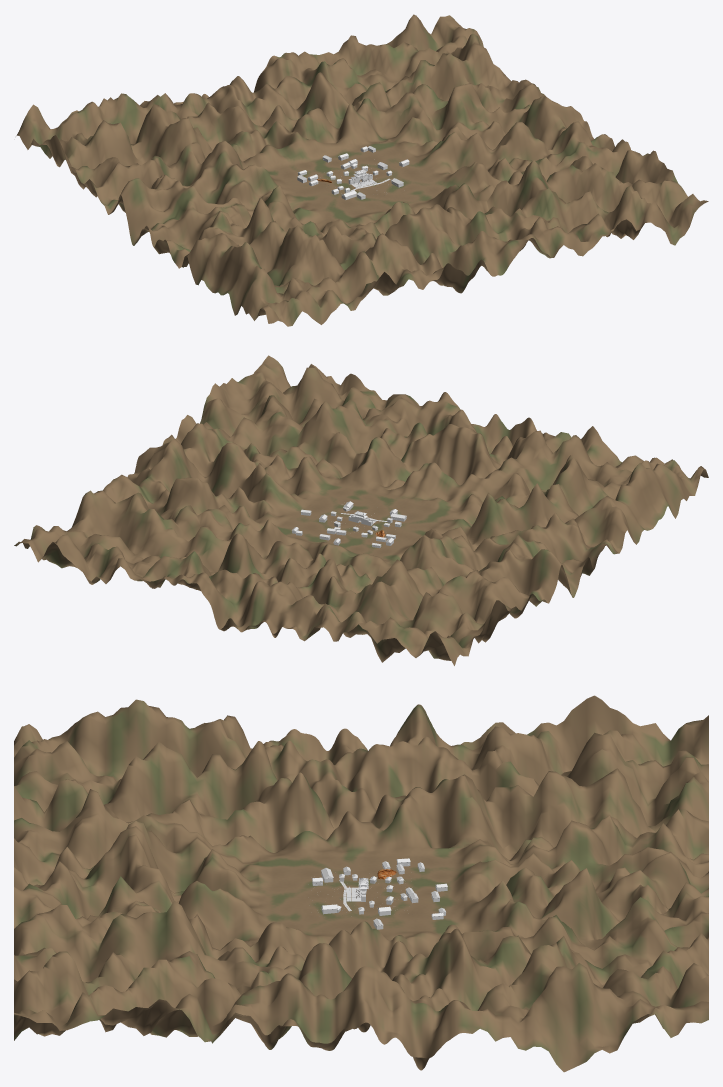
The model's file is huining.glb.
3 views of the same model, one above another, from view 1: azimuth 30°, elevation 25°; view 2: azimuth 150°, elevation 25°; view 3: azimuth 270°, elevation 25° (orthographic). The views are drawn at different scales.
Visible parts, largest first — view 1: Continuous terrain, Historic earth; view 2: Continuous terrain, Historic earth; view 3: Continuous terrain, Historic earth, Outlying courtyard roofs.
Part boxes in pixels (x1,y1,x2,y2): Continuous terrain: [16, 14, 708, 326]; Historic earth: [297, 148, 409, 199]; Continuous terrain: [14, 355, 708, 665]; Historic earth: [292, 504, 406, 548]; Continuous terrain: [14, 695, 708, 1072]; Historic earth: [312, 862, 447, 929]; Outlying courtyard roofs: [312, 858, 447, 925].
Size of the model in its own units: 629 by 106 by 629.
Materials: 56 (37 with a texture image).
